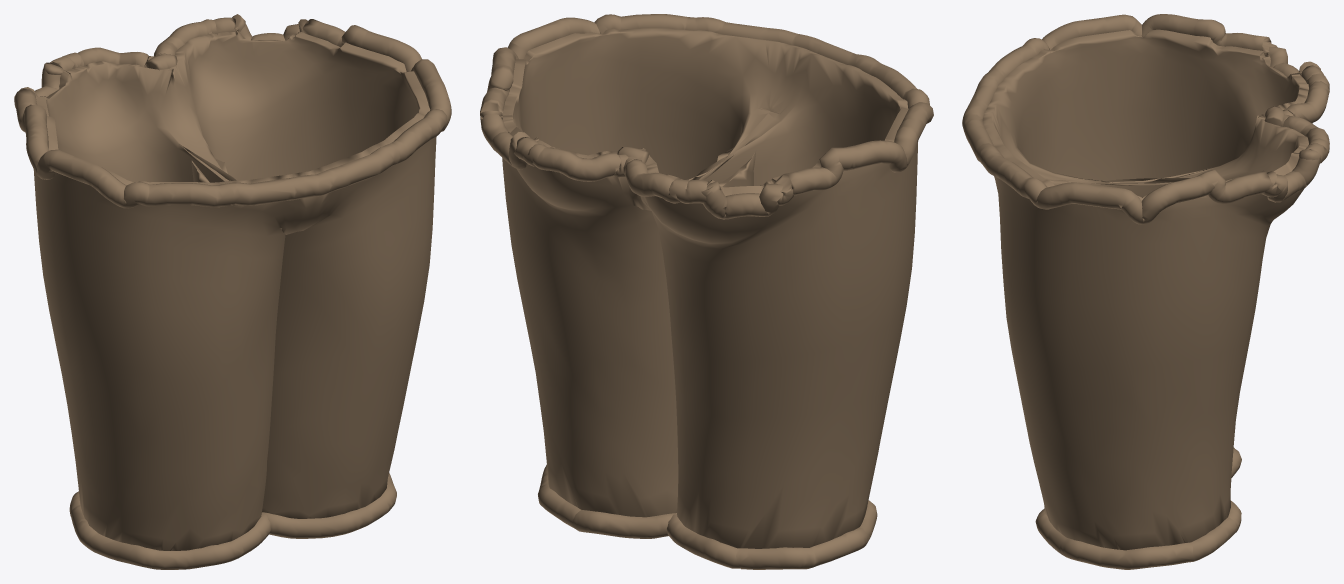
The model's file is 4HT-feminino.glb.
3 views of the same model, side by side, from view 1: azimuth 30°, elevation 25°; view 2: azimuth 150°, elevation 25°; view 3: azimuth 270°, elevation 25° (orthographic). The views are drawn at different scales.
Parts seen in each view (by area): view 1: fitted-shell, bound-edge (×3); view 2: fitted-shell, bound-edge (×3); view 3: fitted-shell, bound-edge (×2).
Part boxes in pixels (left/top/right/bottom): fitted-shell: left=33, top=29, right=436, bottom=550; bound-edge (×3): left=14, top=14, right=451, bottom=569; fitted-shell: left=502, top=28, right=918, bottom=548; bound-edge (×3): left=480, top=14, right=933, bottom=569; fitted-shell: left=982, top=29, right=1312, bottom=550; bound-edge (×2): left=962, top=14, right=1329, bottom=569.
Size of the model in its own units: 0.0267 by 0.0275 by 0.0224.
